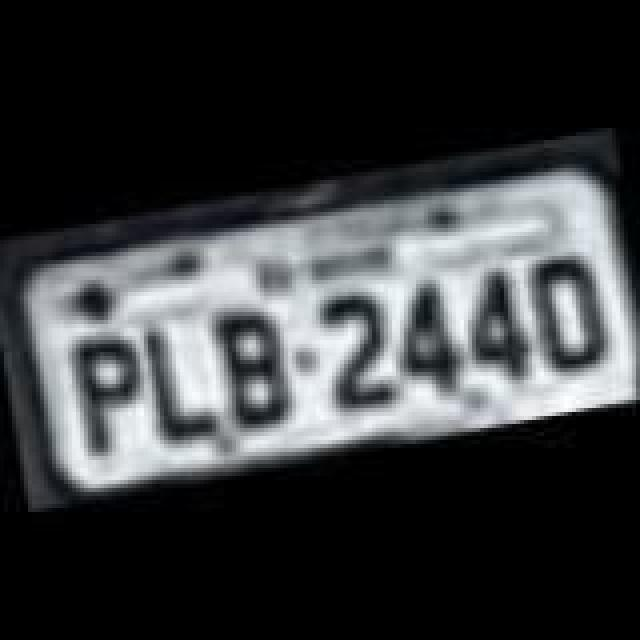2: (310, 280, 410, 412)
4: (444, 260, 548, 400), (380, 266, 476, 406)
B: (202, 292, 302, 436)
L: (132, 310, 232, 450)
O: (516, 246, 620, 378)
P: (58, 330, 162, 462)
